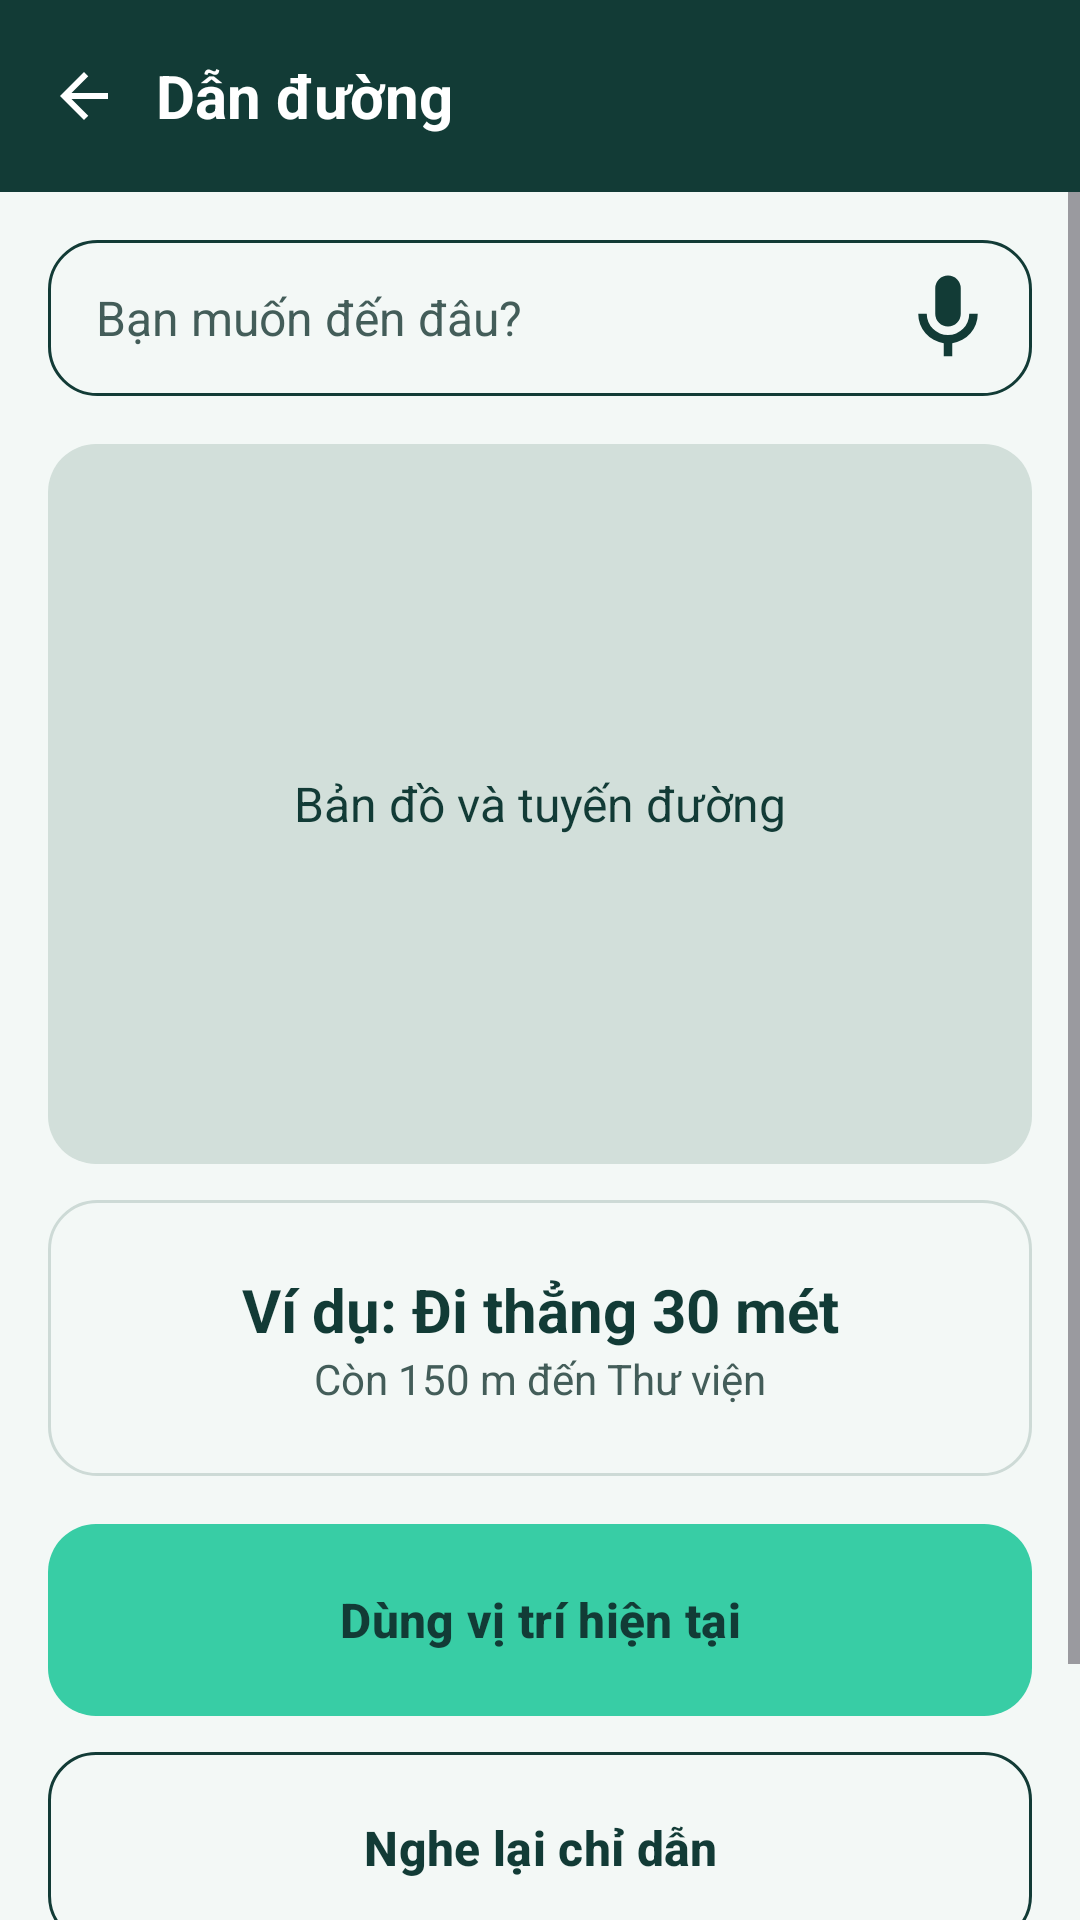

Icons on this 1080 × 1920 Android screen, each with its box as (x1, y1, x2, y2):
Nhập điểm đến bằng giọng nói: (918, 275, 978, 357)
Quay lại màn hình chính: (60, 72, 108, 120)
